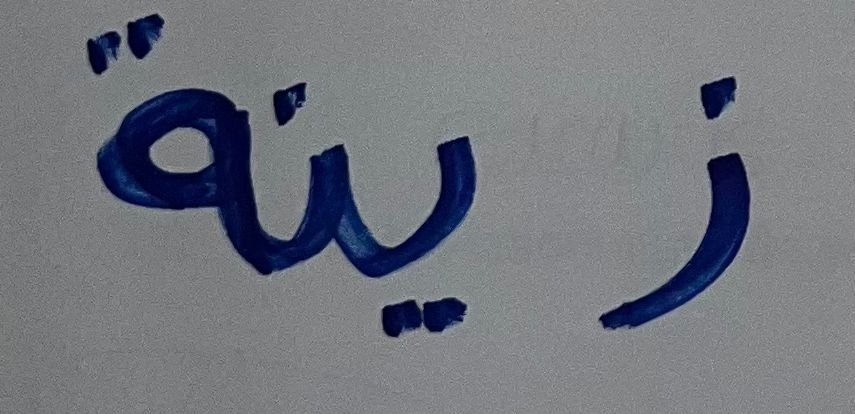noon: (266, 57, 357, 311)
teh_marbota: (56, 11, 262, 290)
yeh: (361, 93, 499, 369)
zain: (582, 51, 775, 347)
